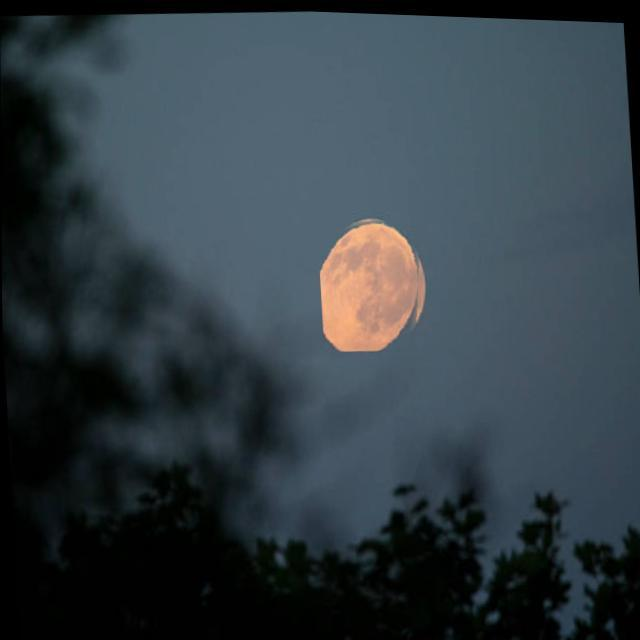moon: (316, 210, 429, 352)
